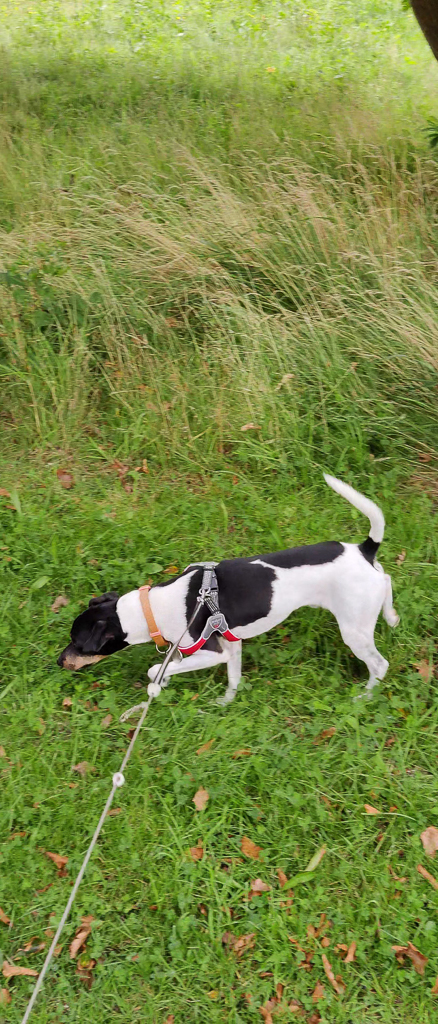Dog: (45, 465, 410, 719)
